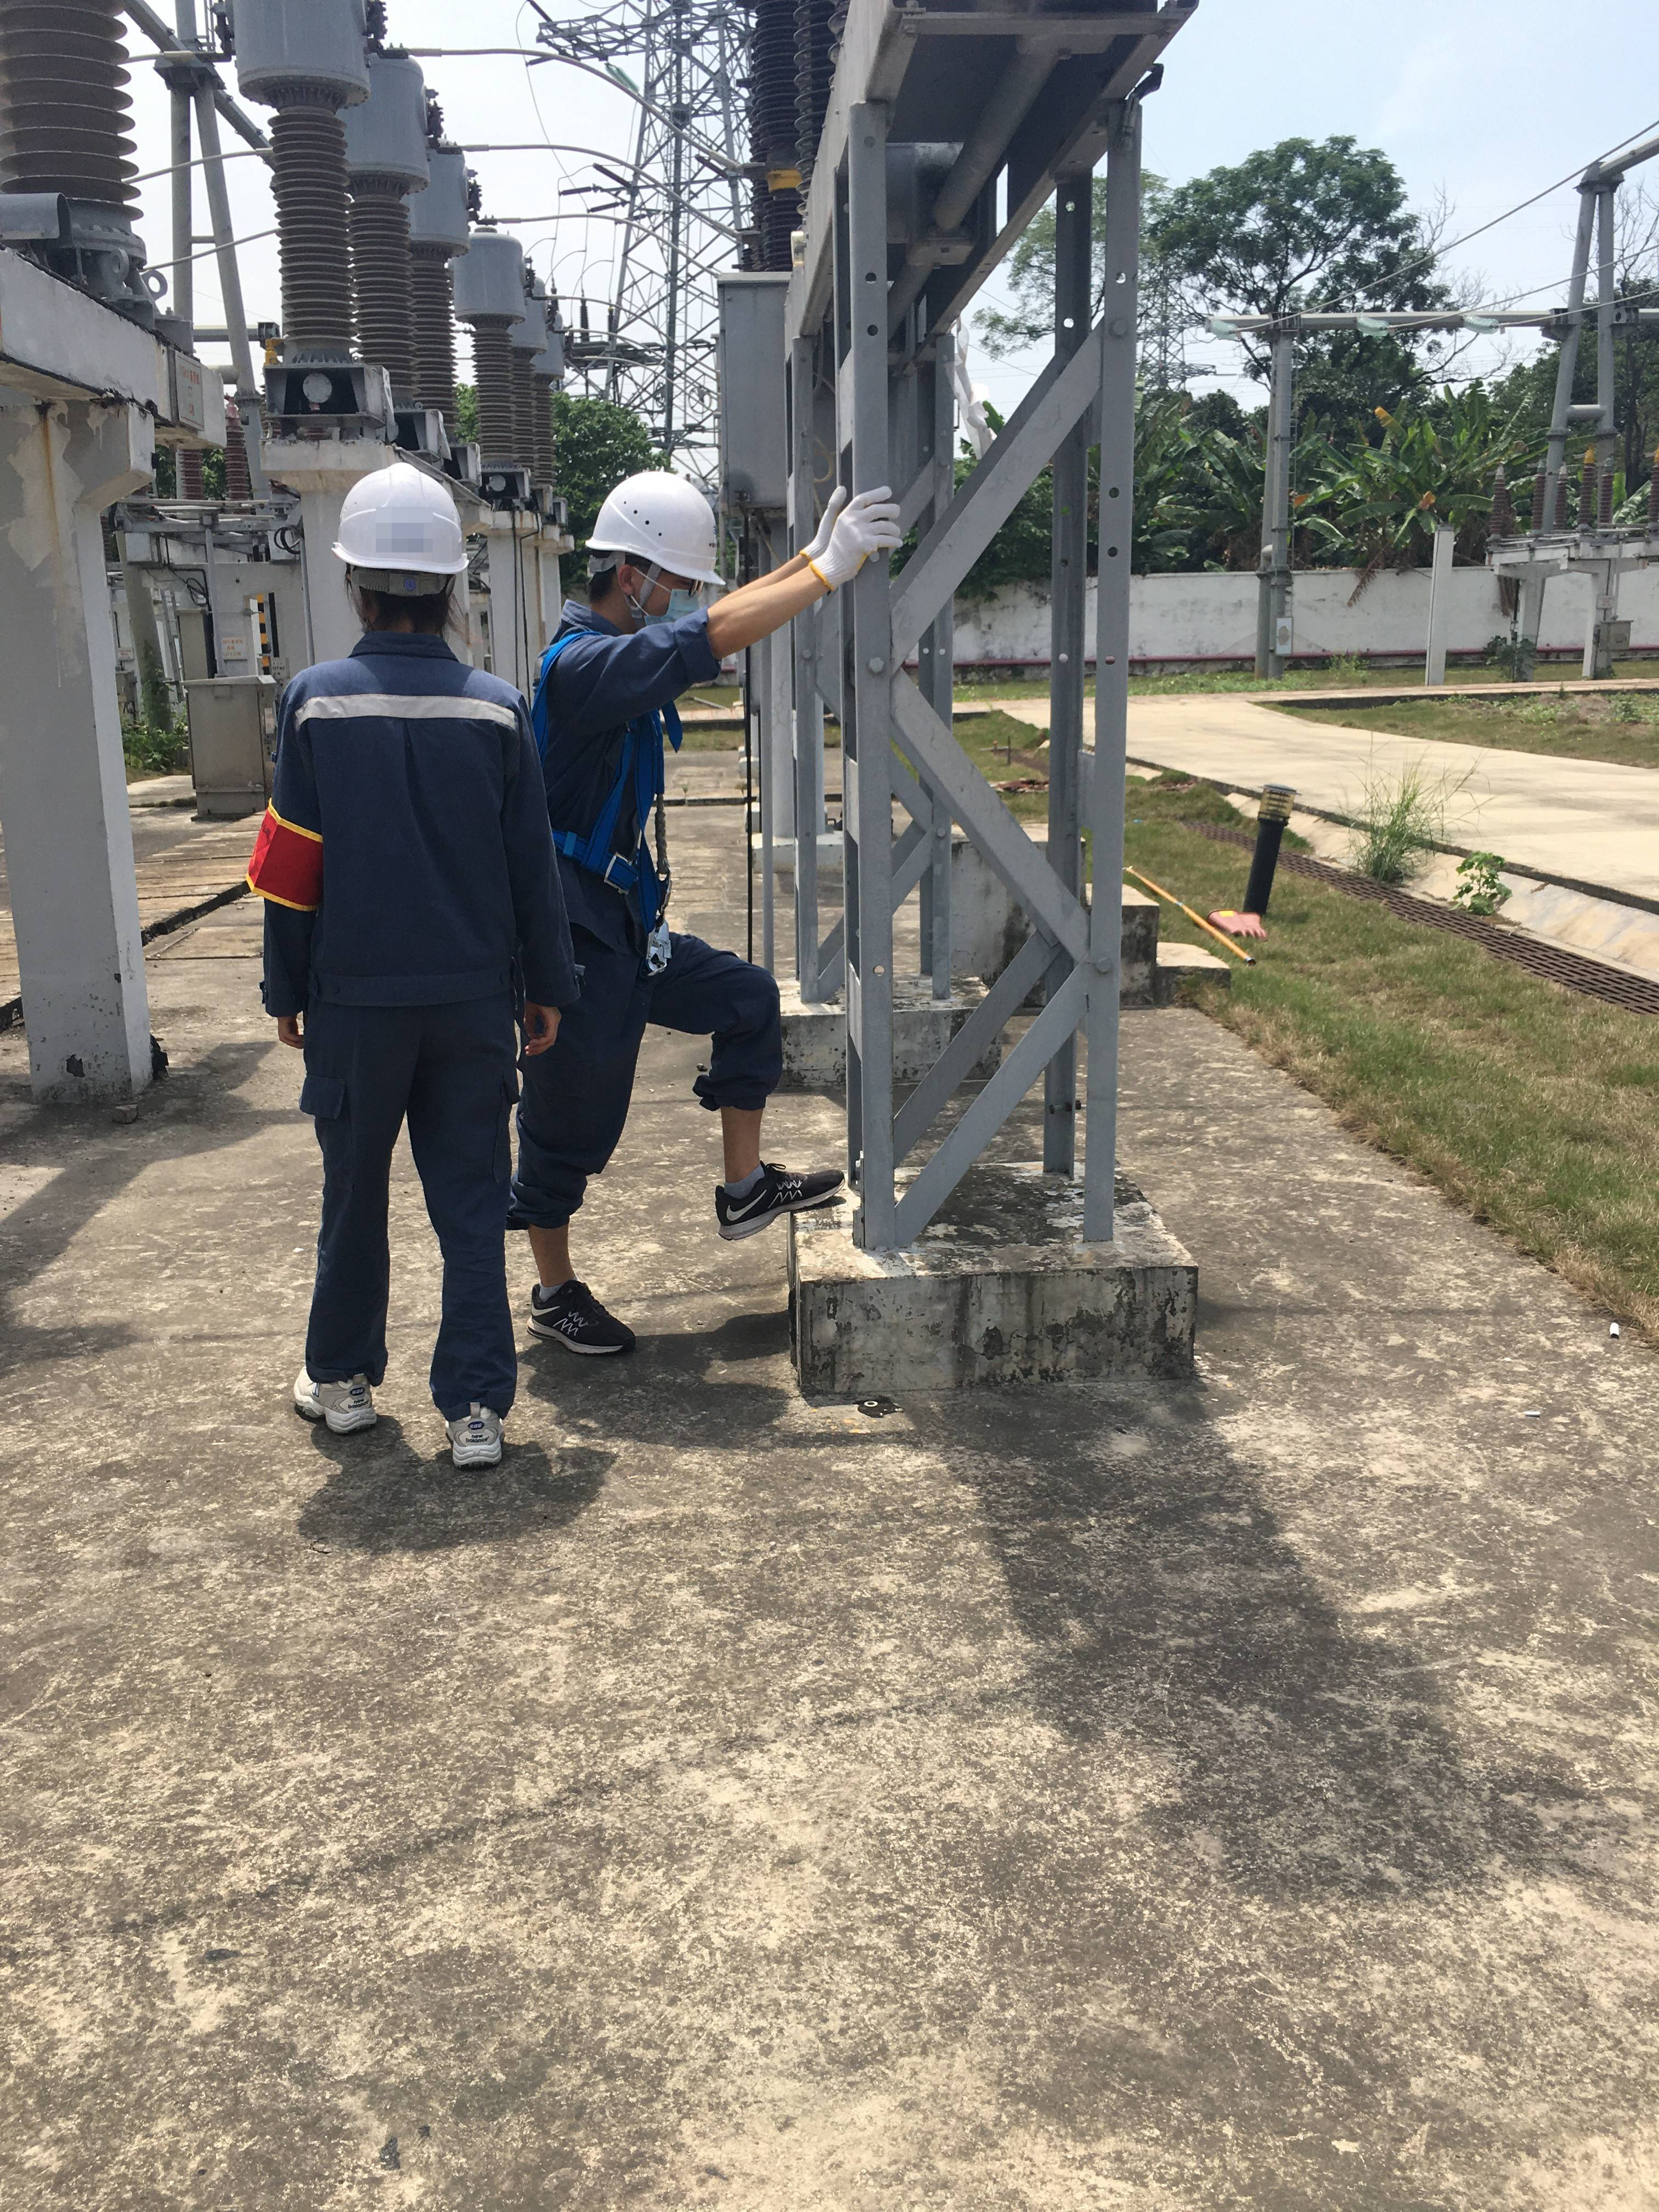downsuit: (289, 1007, 514, 1381), (544, 953, 779, 1186)
upsuit: (275, 660, 538, 991), (523, 631, 671, 932)
wrongbottom: (706, 1043, 777, 1190), (514, 1157, 579, 1296)
wrongtop: (640, 585, 819, 683)
